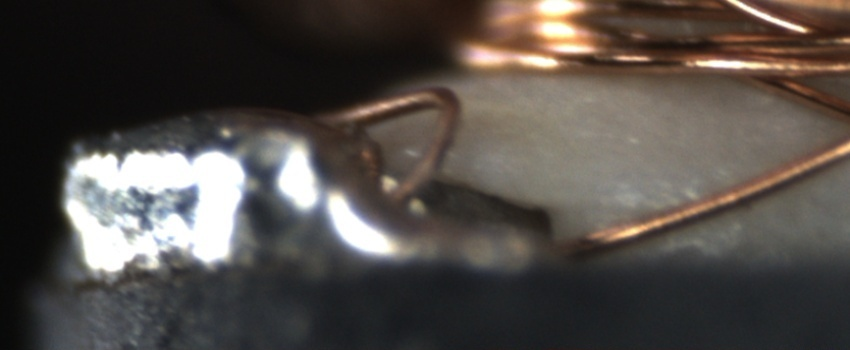TE: (323, 82, 473, 212)
